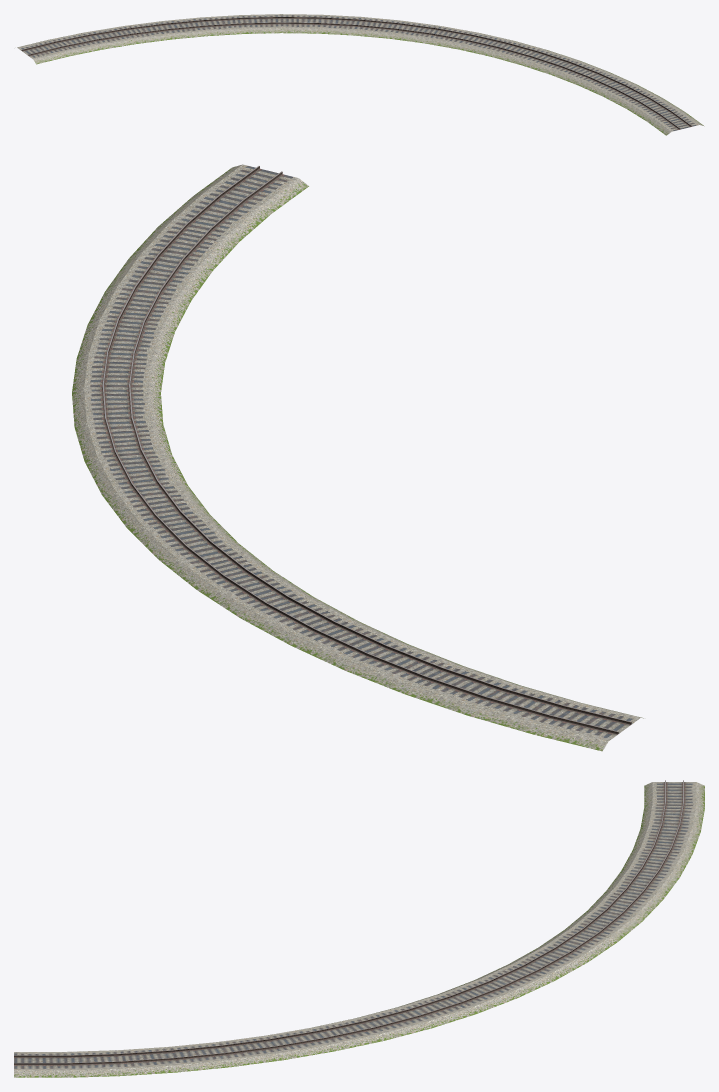
Rendered from Tr_FBend2x2.fbx.
The picture shows the model from 3 angles, top to bottom: view 1: azimuth 30°, elevation 25°; view 2: azimuth 150°, elevation 25°; view 3: azimuth 270°, elevation 25°; orthographic projection. The views are drawn at different scales.
Visible parts, largest first — view 1: U3DMesh; view 2: U3DMesh; view 3: U3DMesh.
Part boxes in pixels (left/top/right/bottom): U3DMesh: left=17, top=14, right=704, bottom=135; U3DMesh: left=72, top=164, right=643, bottom=751; U3DMesh: left=14, top=780, right=704, bottom=1077.
Bounding box in the file's own units: 50.21 × 0.4496 × 50.21.
